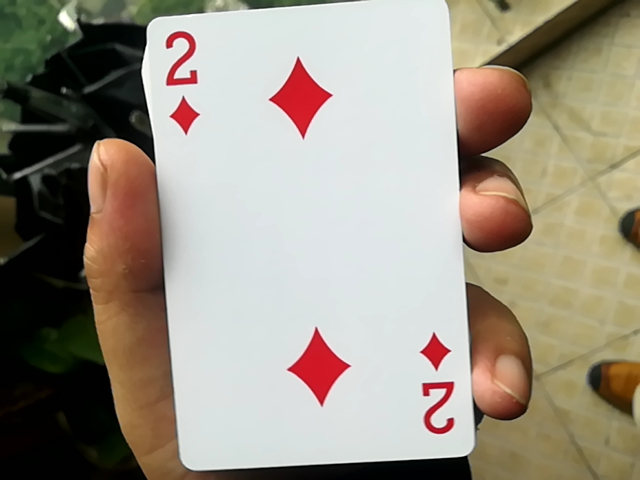fk 2: (125, 0, 469, 470)
